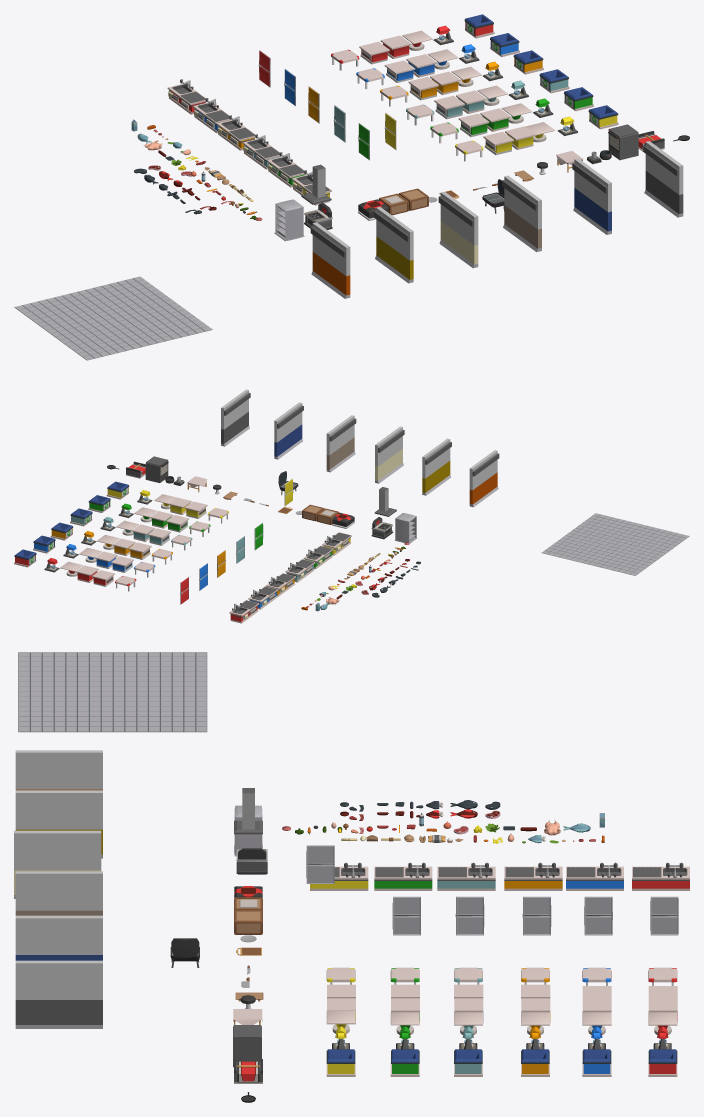
Rendered from Kitchen.fbx.
3 views of the same model, one above another, from view 1: azimuth 30°, elevation 25°; view 2: azimuth 150°, elevation 25°; view 3: azimuth 270°, elevation 25° (orthographic). The views are drawn at different scales.
Visible parts, largest first — view 1: floor, Wall.Orange, Wall Grey, Wall.LightYellow, Wall.Gold, Wall.Blue, Wall.Cream, Fridge, Oven, Sink_Orange, Sink_Red, Sink_Green (+13 smaller); view 2: floor, Wall.Cream, Wall.Orange, Wall.Blue, Wall.Gold, Wall Grey, Wall.LightYellow, Fridge, Sink_Red, Oven, Sink_LightBlue, Sink_Blue (+3 smaller); view 3: floor, Wall Grey, Wall.Blue, Wall.Cream, Wall.LightYellow, Wall.Gold, Wall.Orange, Sink_Orange, Sink_LightBlue, Sink_Green, Sink_Red, Sink_Blue (+19 smaller).
Part boxes in pixels (box(x1,y1,x2,y2)): floor: box(14, 276, 212, 360); Wall.Orange: box(310, 222, 350, 298); Wall Grey: box(643, 141, 683, 217); Wall.LightYellow: box(438, 191, 478, 268); Wall.Gold: box(374, 207, 413, 283); Wall.Blue: box(572, 158, 611, 234); Wall.Cream: box(502, 175, 541, 252); Fridge: box(274, 199, 304, 241); Oven: box(608, 124, 638, 160); Sink_Orange: box(217, 115, 255, 150); Sink_Red: box(167, 79, 205, 114); Sink_Green: box(267, 152, 305, 187); floor: box(541, 513, 689, 575); Wall.Cream: box(326, 415, 356, 472); Wall.Orange: box(469, 450, 499, 507); Wall.Blue: box(274, 402, 303, 459); Wall.Gold: box(422, 438, 451, 495); Wall Grey: box(221, 389, 250, 446); Wall.LightYellow: box(375, 426, 404, 483); Fridge: box(394, 513, 416, 543); Sink_Red: box(229, 600, 259, 623); Oven: box(145, 456, 168, 482); Sink_LightBlue: box(285, 559, 315, 582); Sink_Blue: box(248, 586, 278, 609); floor: box(18, 652, 207, 732); Wall Grey: box(15, 960, 102, 1028); Wall.Blue: box(15, 915, 102, 960); Wall.Cream: box(15, 871, 102, 915); Wall.LightYellow: box(14, 830, 101, 898); Wall.Gold: box(15, 790, 102, 858); Wall.Orange: box(15, 750, 102, 790); Sink_Orange: box(504, 862, 562, 890); Sink_LightBlue: box(437, 862, 495, 890); Sink_Green: box(374, 862, 432, 890); Sink_Red: box(632, 862, 689, 890); Sink_Blue: box(566, 862, 623, 890).
Bounding box in the file's own units: 7113 × 662 × 4650.
7 materials, 7 textured.
